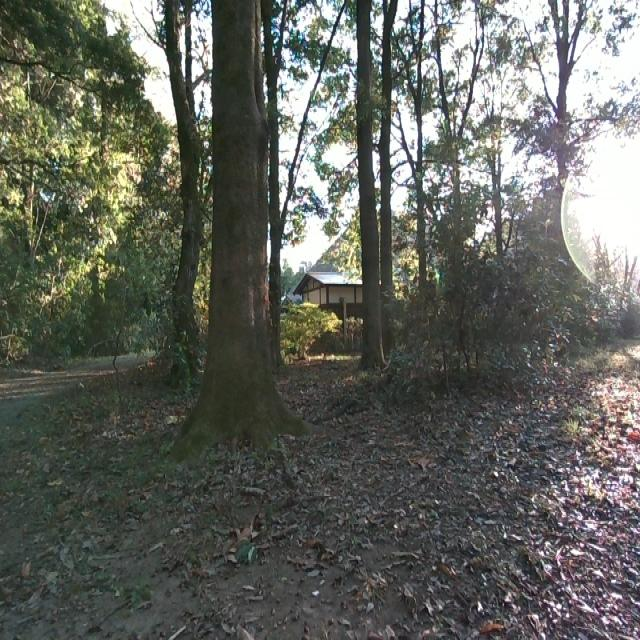artifact: (282, 256, 376, 340)
bush: (394, 204, 573, 404)
tree: (206, 0, 285, 445), (161, 0, 200, 365), (352, 0, 391, 360), (550, 0, 571, 213)
